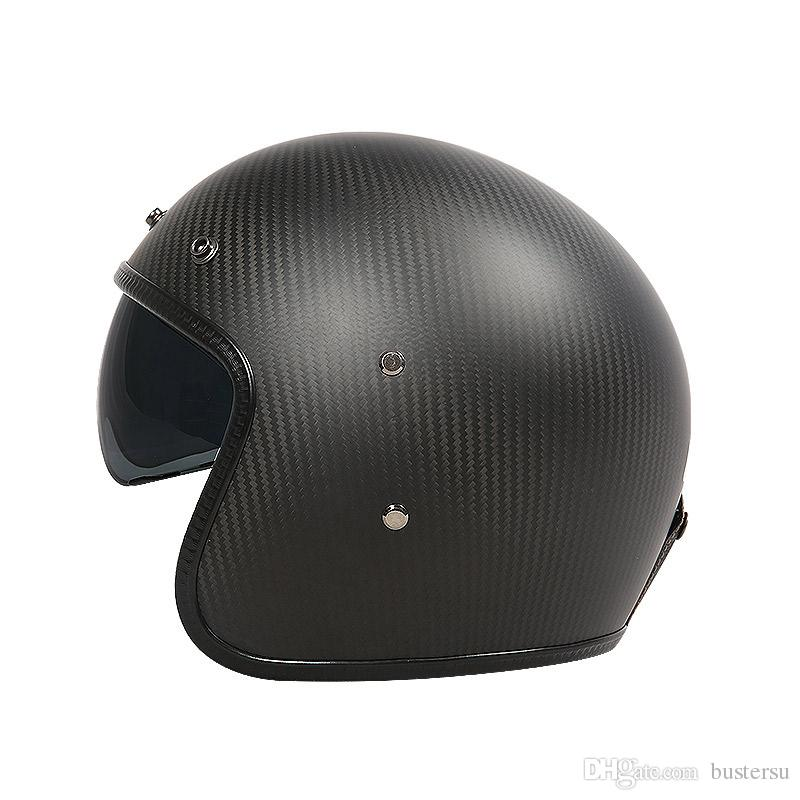with_helmet: (97, 128, 700, 685)
